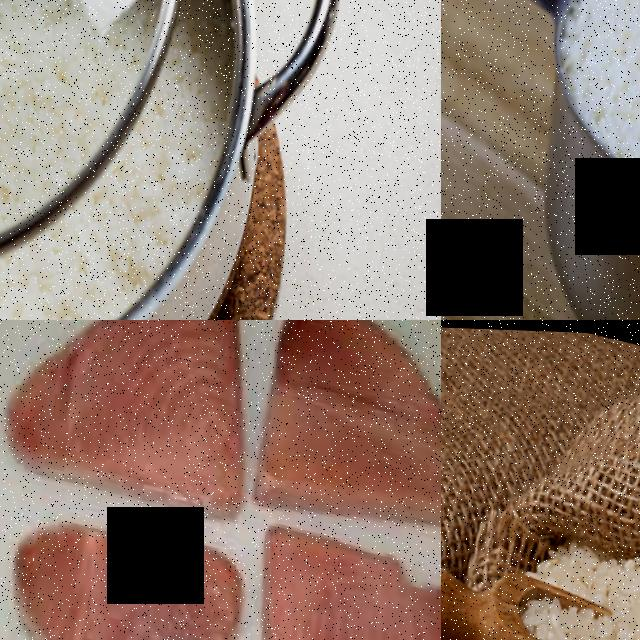tuna: (0, 320, 285, 527), (225, 320, 441, 560), (0, 491, 263, 640), (199, 511, 441, 640)
white rice: (0, 0, 149, 320), (541, 0, 640, 214)
